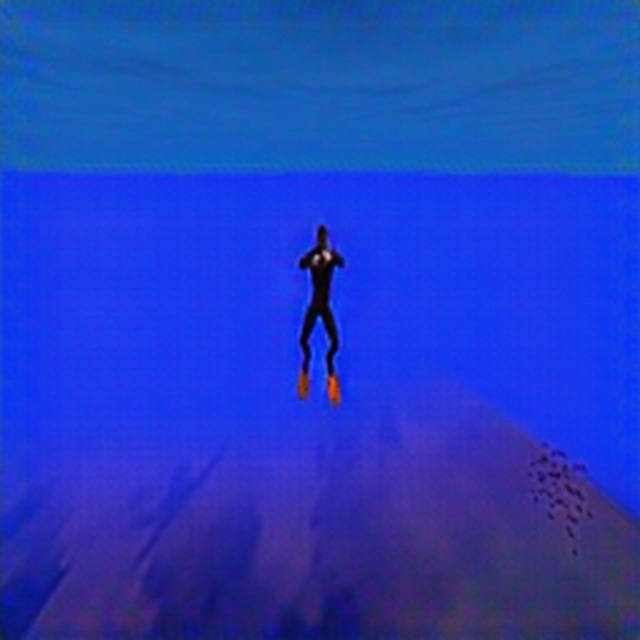diver: (294, 221, 347, 405)
